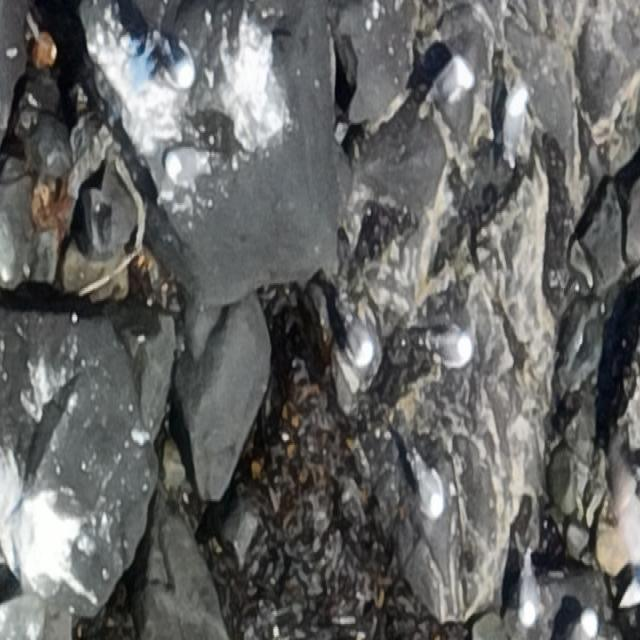F: (607, 449, 640, 613)
umineko: (427, 57, 475, 119), (336, 303, 376, 373), (408, 452, 447, 520), (164, 141, 208, 191), (155, 40, 198, 91), (502, 86, 528, 166), (427, 331, 475, 368), (517, 556, 539, 628), (573, 608, 600, 640)
